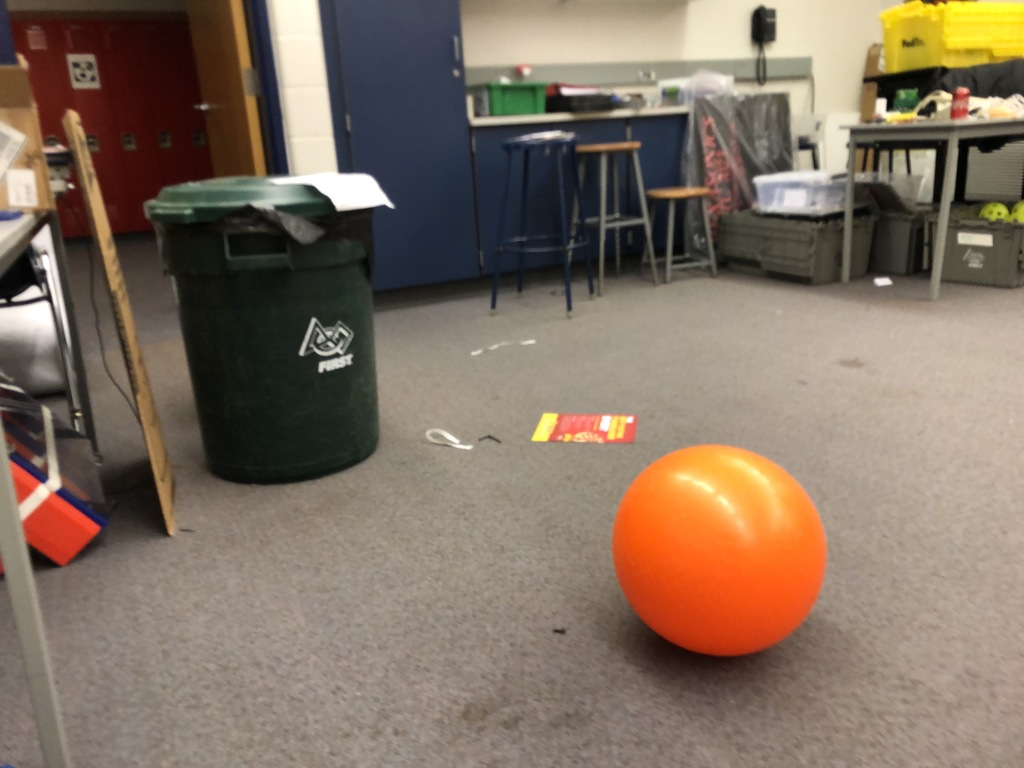cargo: (608, 441, 832, 667)
